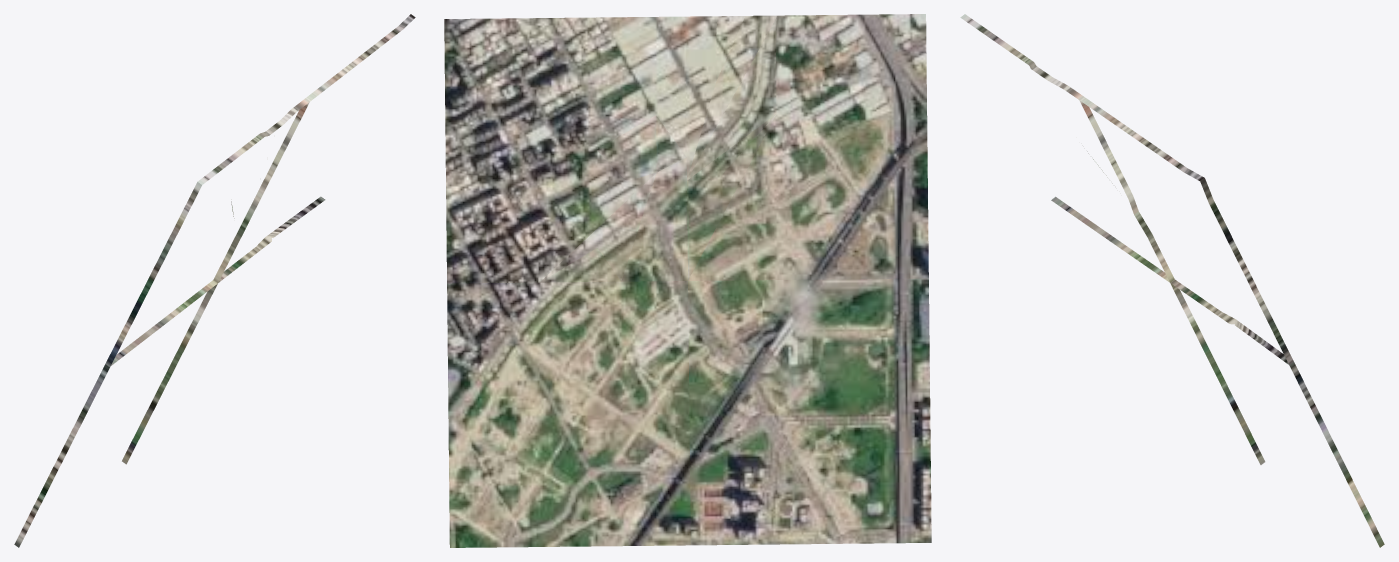
The picture shows the model from 3 angles, left to right: view 1: azimuth 30°, elevation 25°; view 2: azimuth 150°, elevation 25°; view 3: azimuth 270°, elevation 25°; orthographic projection. The views are drawn at different scales.
Bounding box in the file's own units: 1220 × 1111 × 1029.
Materials: 1 (1 with a texture image).
